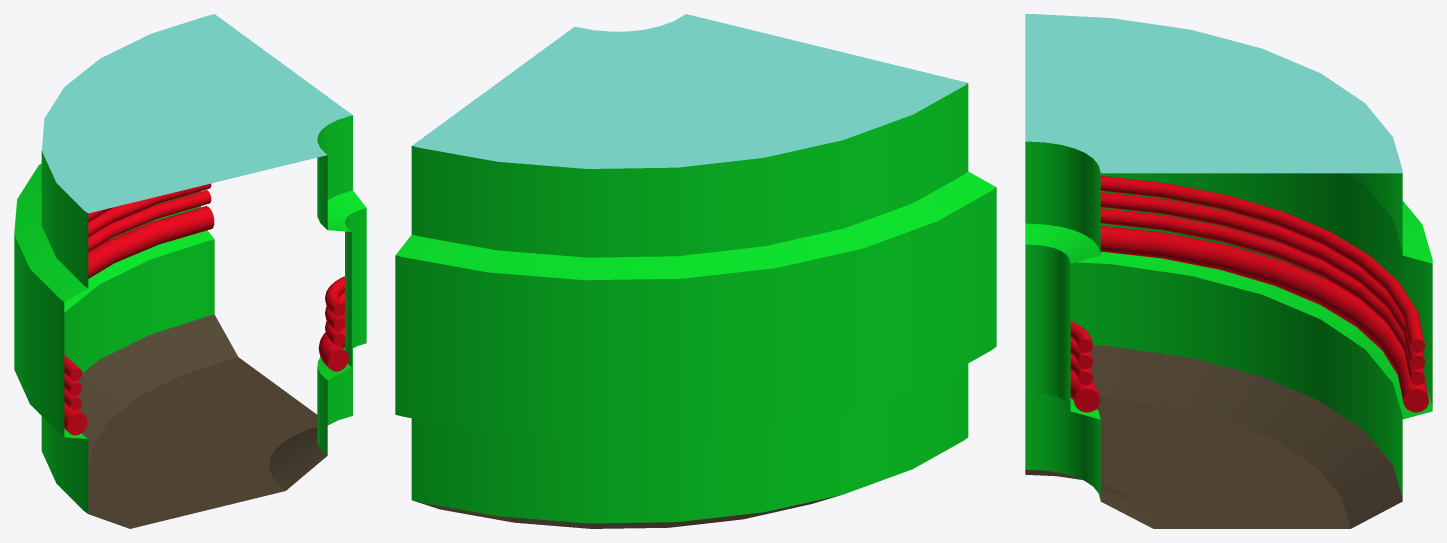
File: Corner_Curved.fbx
The picture shows the model from 3 angles, left to right: view 1: azimuth 30°, elevation 25°; view 2: azimuth 150°, elevation 25°; view 3: azimuth 270°, elevation 25°; orthographic projection. The views are drawn at different scales.
Parts seen in each view (by area): view 1: Corner_Curved, Cylinder.006, Cylinder.003; view 2: Corner_Curved; view 3: Corner_Curved, Cylinder.006, Cylinder.003.
Boxes of the visible parts, <box> form: Corner_Curved: <box>14,14,366,528</box>; Cylinder.006: <box>64,183,214,435</box>; Cylinder.003: <box>318,276,348,371</box>; Corner_Curved: <box>395,14,996,528</box>; Corner_Curved: <box>1025,14,1432,528</box>; Cylinder.006: <box>1100,176,1428,412</box>; Cylinder.003: <box>1070,321,1099,412</box>.
Bounding box in the file's own units: 2.7 × 2.6 × 2.7.
